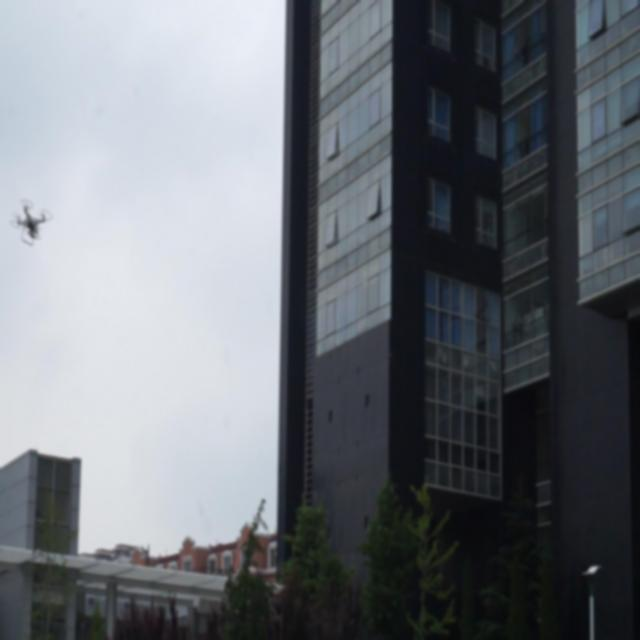UAV: (10, 198, 53, 246)
